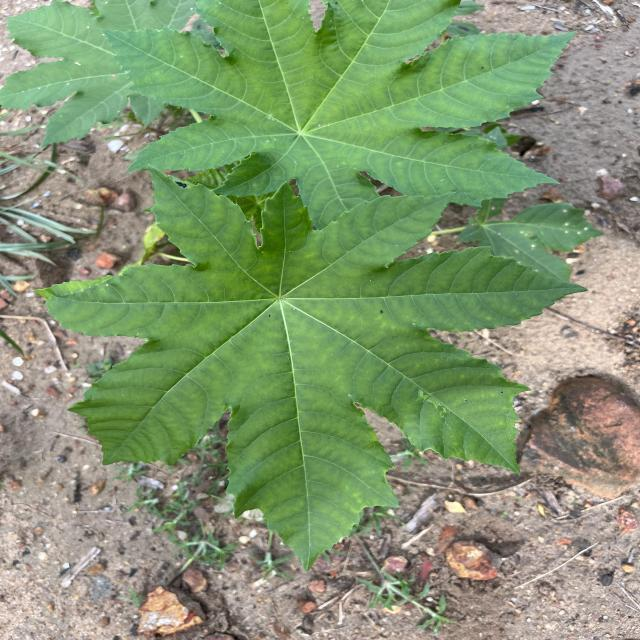Ricinus communis linn: (26, 158, 592, 574), (92, 0, 582, 232)
